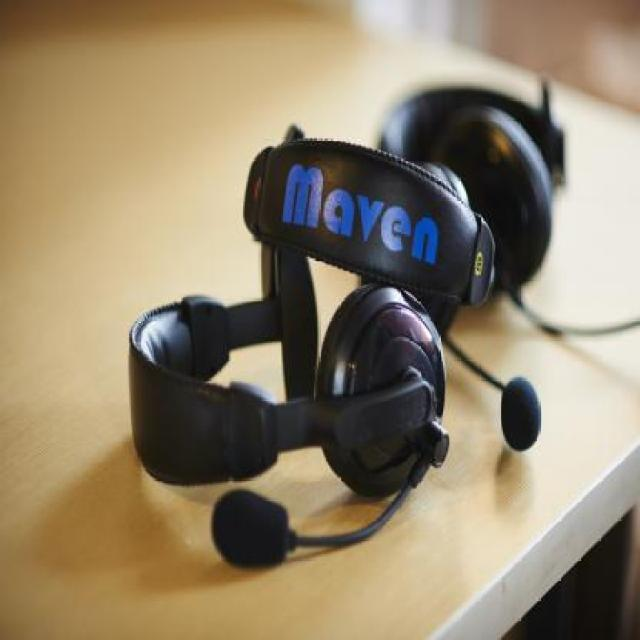earphone: (118, 163, 458, 522), (398, 80, 594, 276)
